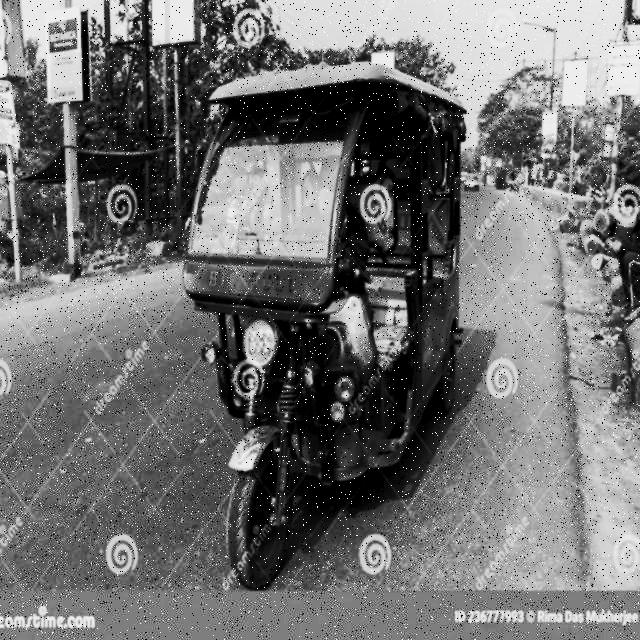Toto: (182, 64, 471, 593)
